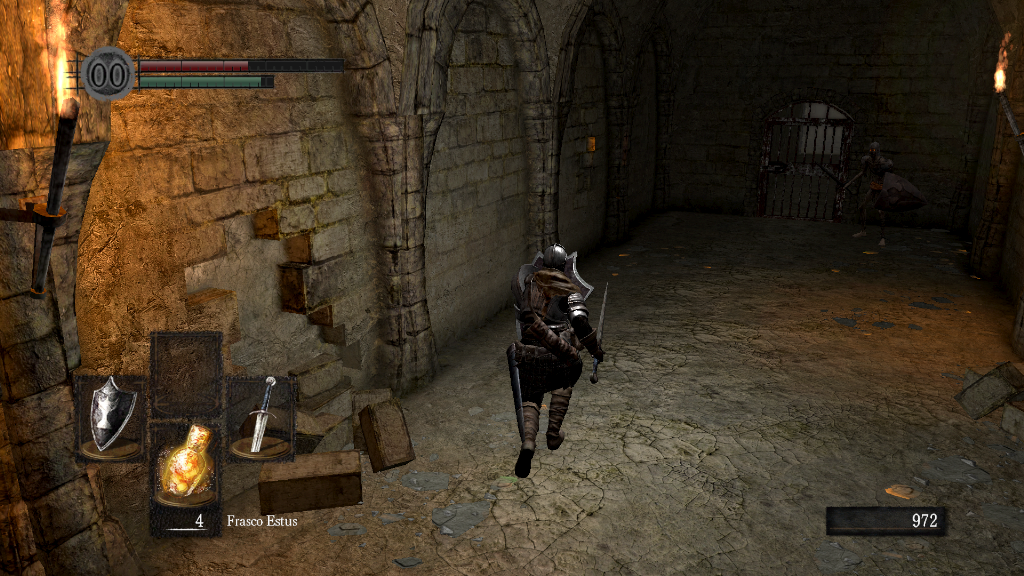health: (138, 58, 343, 71)
humanity: (80, 45, 136, 102)
player: (507, 243, 610, 481)
souls: (825, 506, 945, 536)
stamina: (138, 74, 274, 88)
undeadSoldier: (845, 141, 907, 245)
